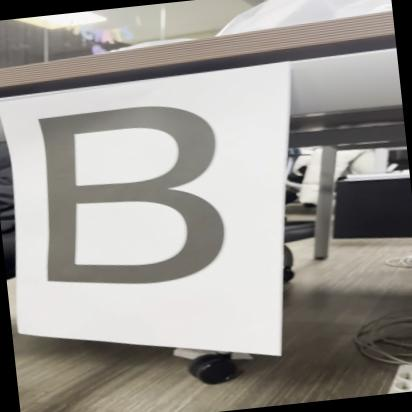seat: (29, 97, 232, 300)
